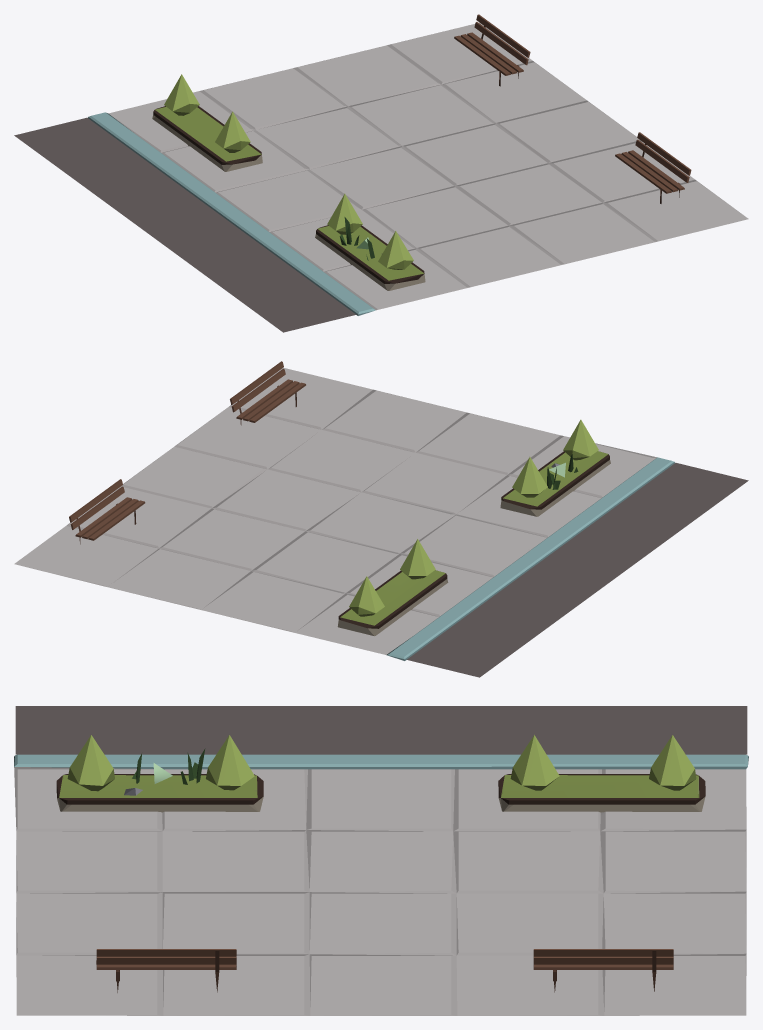
Rendered from QmZUVKKrrCsmcVNT8hwvYFUsJb9kZ3br37zFYmNKidvAwB_lod2.fbx.
3 renders of one model, top to bottom at view 1: azimuth 30°, elevation 25°; view 2: azimuth 150°, elevation 25°; view 3: azimuth 270°, elevation 25°, orthographic. The views are drawn at different scales.
Parts seen in each view (by area): view 1: Entity_512; view 2: Entity_512; view 3: Entity_512.
Part boxes in pixels (x1=…): Entity_512: x1=14, y1=14, x2=748, y2=332; Entity_512: x1=14, y1=361, x2=748, y2=677; Entity_512: x1=14, y1=706, x2=748, y2=1015.
Bounding box in the file's own units: 15918 × 1591 × 16000.
1 material, 1 textured.
